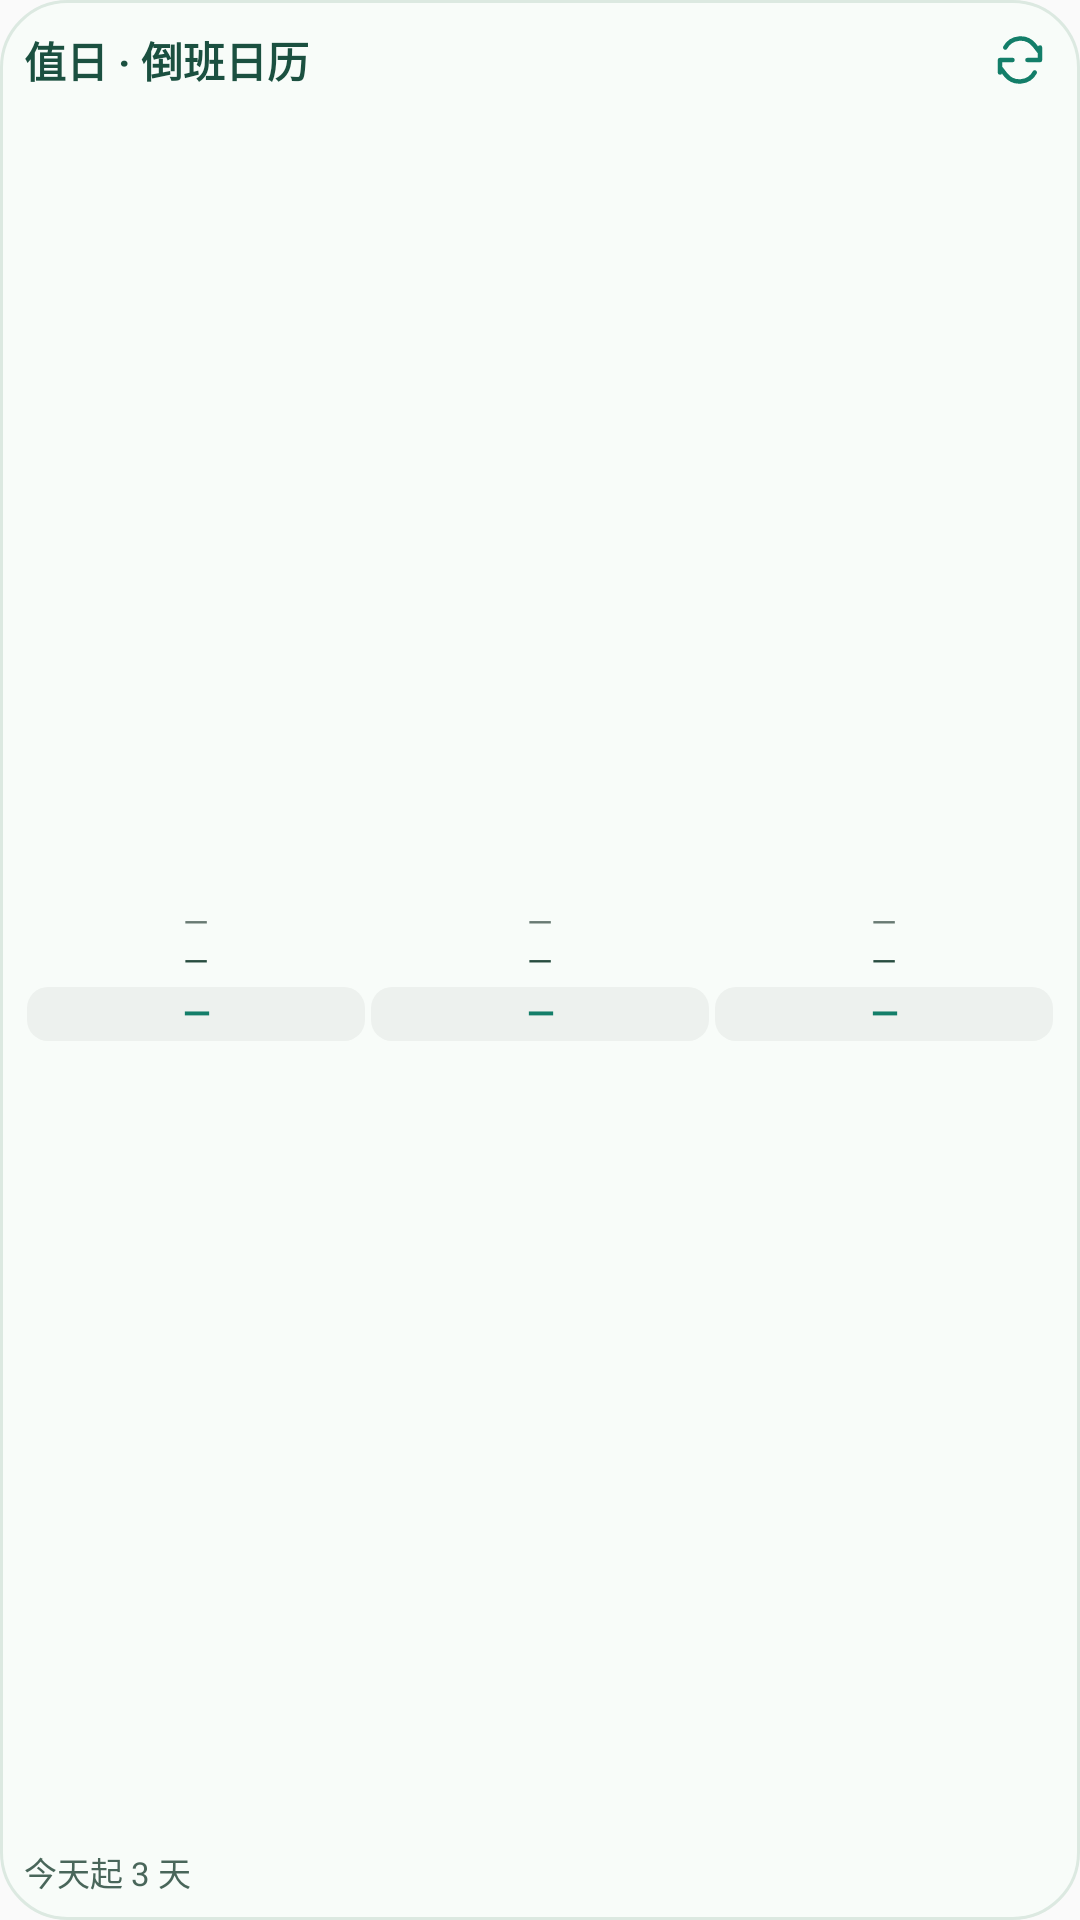

Icon click points for this 1080×1920 phone screenshot, format [x,y]:
刷新桌面排班: [1020,60]
